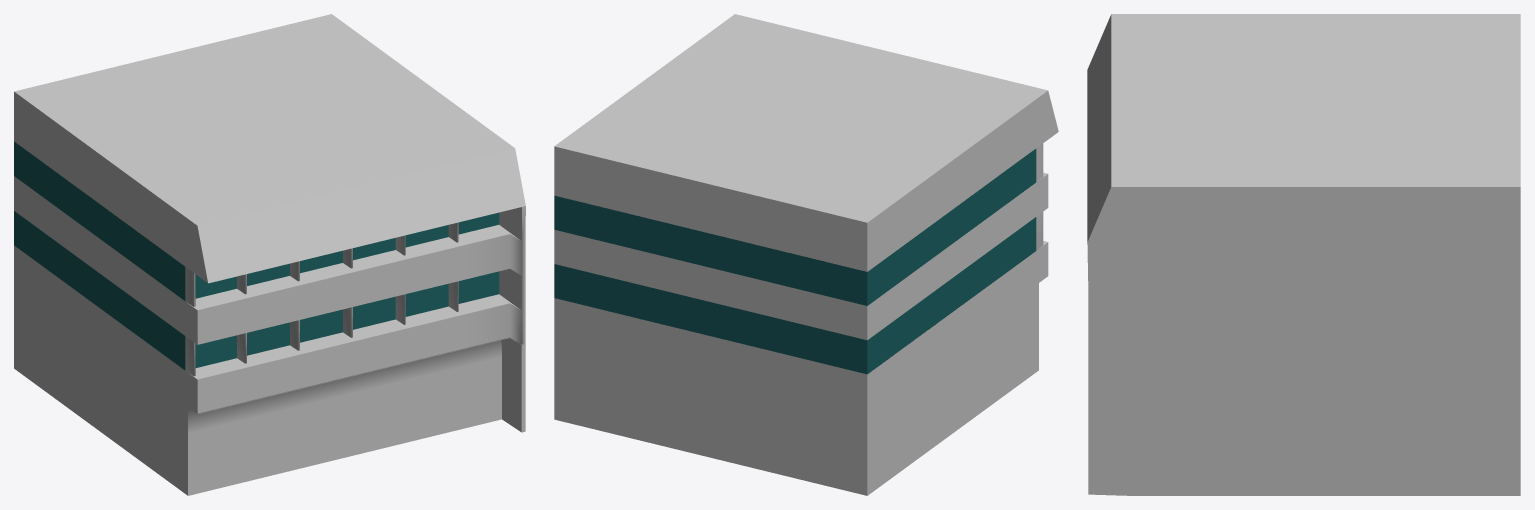
Rendered from Terminal_Corner1.fbx.
3 renders of one model, left to right at view 1: azimuth 30°, elevation 25°; view 2: azimuth 150°, elevation 25°; view 3: azimuth 270°, elevation 25°, orthographic. The views are drawn at different scales.
Visible parts, largest first — view 1: Terminal_Corner1; view 2: Terminal_Corner1; view 3: Terminal_Corner1.
Part boxes in pixels (x1,y1,x2,y2): Terminal_Corner1: (14, 14, 525, 495); Terminal_Corner1: (554, 14, 1058, 495); Terminal_Corner1: (1087, 14, 1520, 495).
Size of the model in its own units: 90 by 75 by 95.25.
